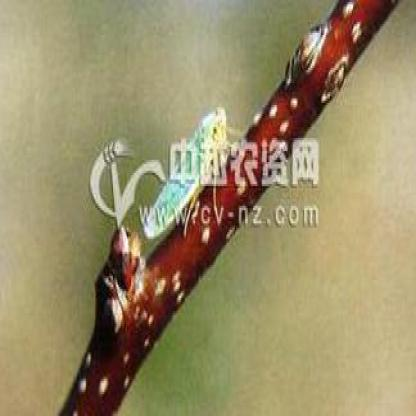Green-Leafhopper: (138, 103, 230, 243)
